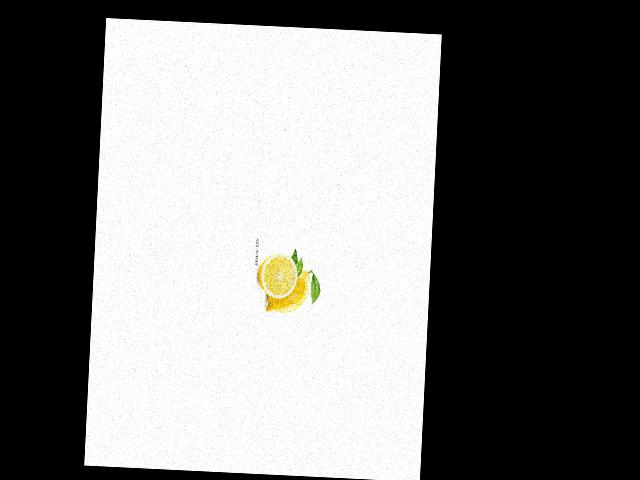lemon: (263, 264, 312, 322)
